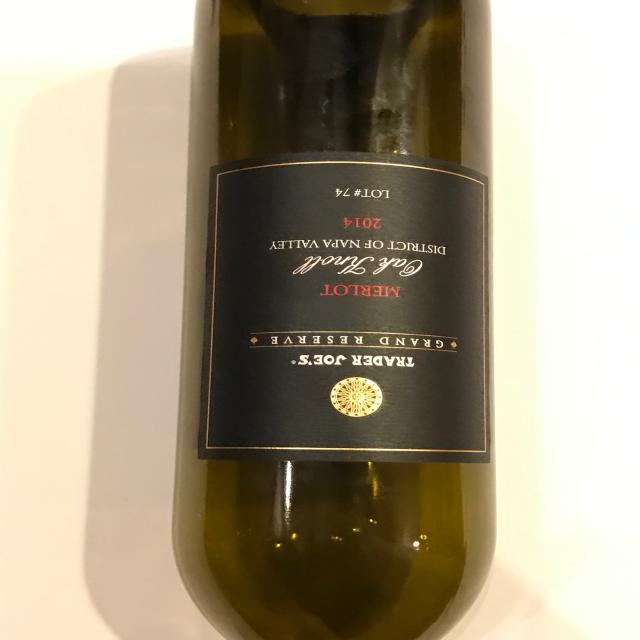glass: (172, 0, 497, 640)
